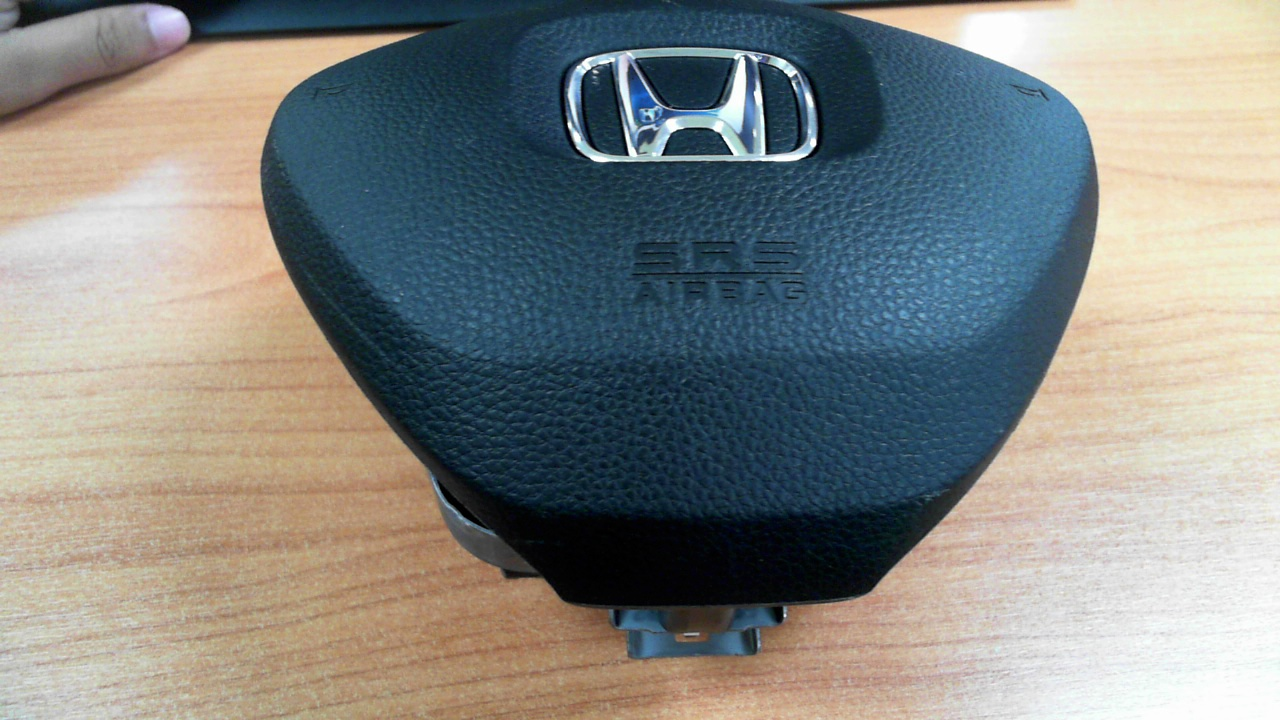Airbag: (259, 0, 1100, 663)
Honda: (565, 46, 819, 163)
